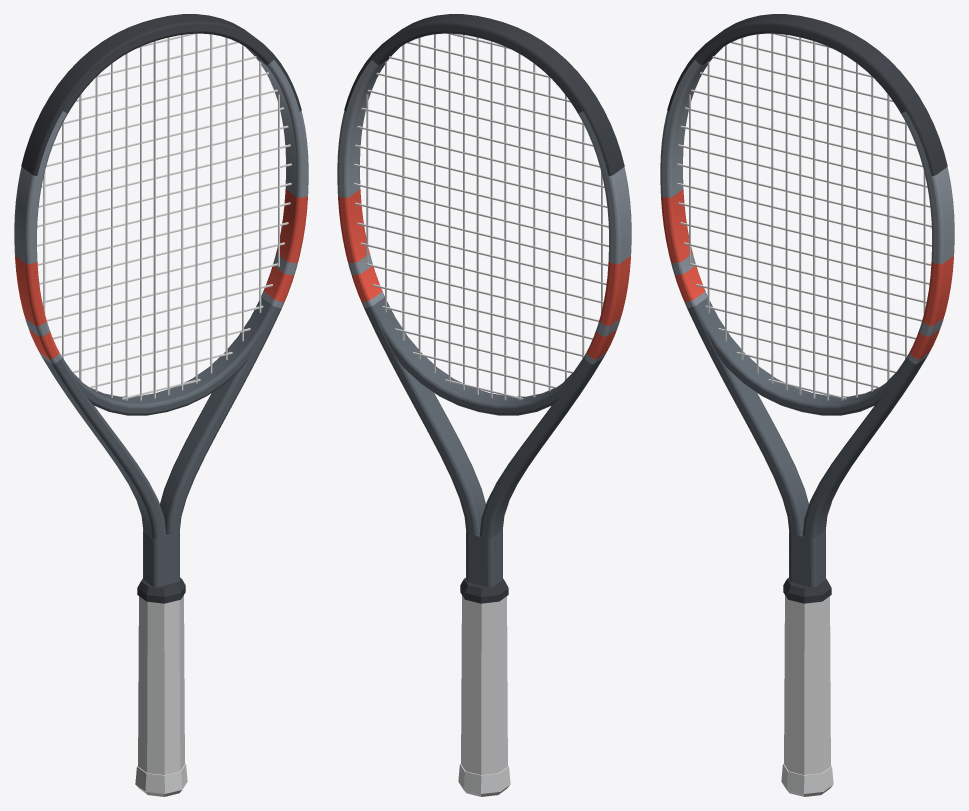
The model's file is babolat-pure-strike-100-2024.glb.
3 renders of one model, left to right at view 1: azimuth 30°, elevation 25°; view 2: azimuth 150°, elevation 25°; view 3: azimuth 330°, elevation 25°, orthographic.
Parts seen in each view (by area): view 1: frame, strings_mains, strings_crosses, grip, bumper, butt_cap, collar; view 2: frame, strings_mains, strings_crosses, grip, bumper, butt_cap, collar; view 3: frame, strings_mains, strings_crosses, grip, bumper, butt_cap, collar.
Boxes of the visible parts, x1,y1,x2,y2 form: frame: (14, 26, 308, 587); strings_mains: (43, 33, 279, 400); strings_crosses: (37, 33, 291, 399); grip: (138, 595, 184, 774); bumper: (21, 14, 301, 175); butt_cap: (135, 763, 187, 796); collar: (137, 577, 185, 603); frame: (337, 26, 631, 587); strings_mains: (366, 34, 602, 400); strings_crosses: (353, 33, 608, 399); grip: (461, 595, 507, 774); bumper: (344, 14, 624, 175); butt_cap: (458, 763, 510, 796); collar: (460, 577, 508, 603); frame: (660, 26, 954, 587); strings_mains: (689, 33, 925, 400); strings_crosses: (677, 33, 931, 399); grip: (784, 595, 830, 774); bumper: (667, 14, 947, 175); butt_cap: (781, 763, 833, 796); collar: (783, 577, 831, 603).
Size of the model in its own units: 0.2658 by 0.6861 by 0.0396.
